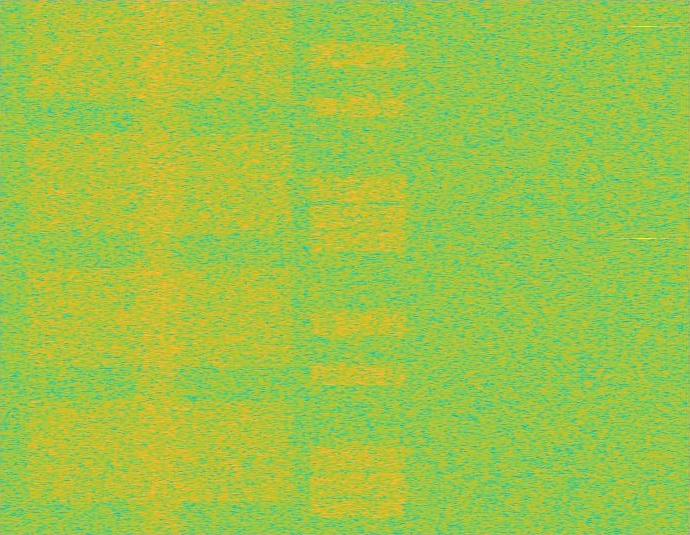5G: (22, 0, 298, 534)
DSSS: (129, 0, 191, 534)
LTE: (307, 0, 410, 534)
Radar: (638, 0, 651, 534)
